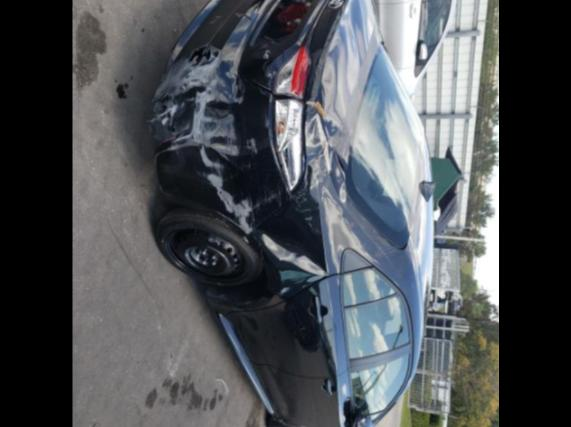Broken part: (144, 0, 296, 240)
Cracked: (274, 99, 303, 190), (273, 47, 307, 97)
Dent: (176, 146, 283, 223), (304, 102, 351, 207), (259, 213, 326, 275), (306, 50, 337, 134), (197, 99, 241, 152), (165, 84, 206, 139), (239, 52, 283, 93), (208, 295, 271, 310), (189, 42, 219, 68), (213, 58, 234, 92)
Missing part: (170, 229, 240, 279)
Paint chip: (305, 94, 329, 127)
Scratch: (159, 32, 247, 163), (206, 173, 252, 234), (152, 55, 198, 101), (304, 141, 334, 189), (163, 149, 205, 181), (270, 140, 291, 197), (305, 113, 327, 154), (146, 98, 179, 125), (198, 144, 224, 177), (213, 209, 241, 228), (263, 186, 281, 205), (293, 185, 309, 206), (252, 36, 279, 48), (171, 121, 191, 134), (245, 137, 257, 156), (235, 298, 264, 305), (209, 13, 223, 24), (263, 106, 270, 128), (252, 198, 261, 213), (238, 161, 250, 172), (159, 136, 175, 143), (268, 93, 275, 108), (162, 116, 170, 126), (197, 170, 206, 177), (232, 81, 236, 96), (242, 235, 249, 241), (311, 227, 317, 234), (186, 97, 195, 101), (235, 12, 242, 17), (251, 213, 254, 223), (181, 101, 185, 108), (228, 94, 232, 98), (295, 206, 299, 210), (233, 95, 236, 98)
